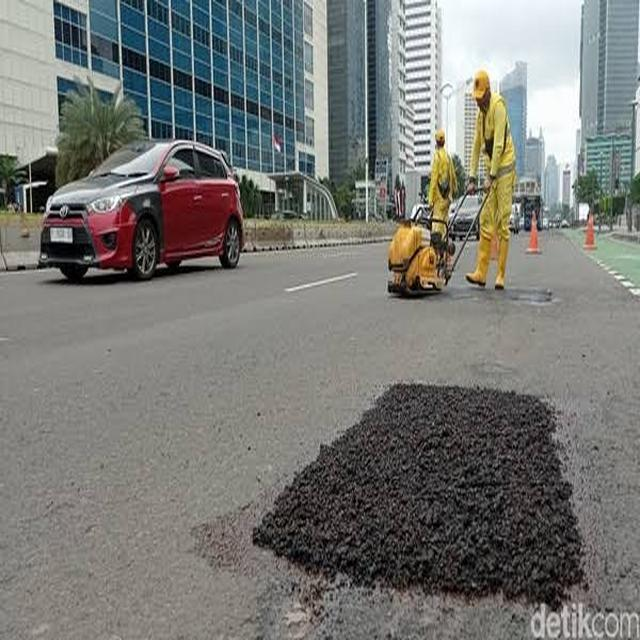Sambungan: (235, 380, 580, 609)
